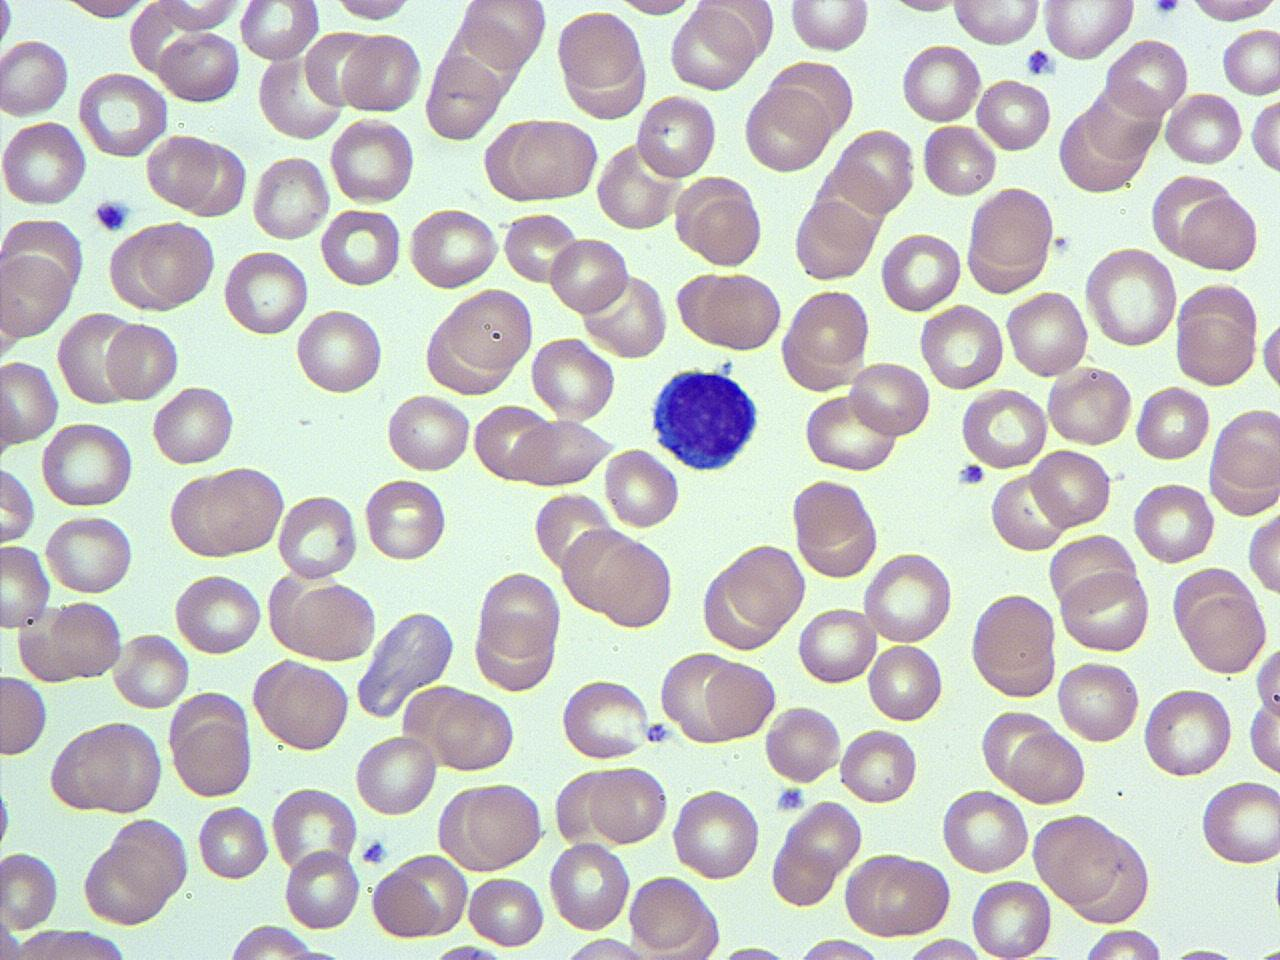Platelets: (92, 196, 134, 234), (359, 834, 389, 868), (1025, 47, 1057, 79), (0, 784, 15, 850), (773, 785, 806, 814), (955, 461, 987, 486), (1269, 863, 1280, 920), (1150, 0, 1184, 18)
RBC: (356, 606, 458, 716), (1082, 245, 1180, 350), (967, 592, 1059, 700), (861, 548, 956, 646), (788, 476, 882, 577), (669, 784, 763, 884), (256, 662, 354, 756), (1141, 683, 1235, 781), (269, 782, 360, 882), (1065, 822, 1153, 926), (967, 184, 1056, 284), (1030, 810, 1122, 908), (38, 419, 137, 510), (326, 112, 417, 208), (221, 245, 312, 339), (558, 675, 656, 762), (292, 307, 384, 399), (528, 332, 618, 426), (76, 70, 170, 158), (255, 51, 346, 143), (917, 298, 1006, 392), (1056, 569, 1152, 655), (546, 838, 633, 934), (580, 268, 669, 360), (407, 204, 501, 291), (81, 719, 165, 816), (742, 85, 830, 176), (0, 116, 88, 209), (80, 841, 173, 928), (476, 569, 564, 659), (1003, 287, 1091, 379), (43, 511, 137, 597), (48, 720, 132, 816), (801, 391, 899, 473), (444, 285, 534, 374), (174, 569, 264, 657), (940, 788, 1032, 874), (55, 309, 136, 406), (1044, 362, 1134, 450), (634, 90, 720, 182), (658, 647, 738, 745), (842, 849, 929, 938), (362, 474, 447, 565), (275, 490, 360, 582), (594, 534, 674, 630), (668, 5, 756, 93), (790, 196, 878, 283), (150, 381, 238, 469), (352, 732, 439, 819), (384, 390, 474, 475), (285, 580, 378, 662), (205, 463, 286, 556), (250, 151, 332, 244), (1198, 776, 1280, 868), (898, 40, 984, 127), (968, 874, 1054, 960), (725, 539, 808, 628), (1056, 657, 1140, 746), (104, 222, 186, 312), (1029, 445, 1113, 532), (694, 270, 784, 352), (838, 125, 918, 216), (846, 357, 932, 441), (959, 386, 1048, 468), (602, 444, 682, 533), (879, 228, 963, 314), (1130, 480, 1215, 564), (1105, 34, 1191, 117), (513, 118, 600, 201), (110, 814, 191, 902), (464, 781, 545, 868), (762, 700, 844, 788), (1150, 173, 1234, 258), (548, 233, 632, 318), (556, 8, 642, 91), (794, 603, 880, 686), (786, 285, 873, 367), (341, 30, 423, 115), (319, 204, 401, 289), (434, 689, 516, 774), (422, 54, 500, 144), (588, 762, 670, 846), (864, 640, 946, 724), (1184, 594, 1270, 675), (139, 217, 217, 306), (156, 27, 242, 107), (1179, 193, 1261, 275), (1162, 88, 1246, 168), (1133, 381, 1213, 465), (282, 846, 361, 932), (1173, 309, 1257, 388), (195, 800, 272, 884), (104, 317, 180, 402), (0, 248, 73, 338), (1008, 726, 1087, 808), (838, 726, 919, 806), (974, 74, 1053, 155), (396, 850, 471, 937), (626, 872, 706, 953), (112, 631, 190, 713), (466, 872, 547, 951), (990, 470, 1066, 554), (703, 657, 778, 742), (166, 472, 238, 560), (51, 597, 124, 683), (501, 208, 580, 286), (920, 120, 998, 200), (172, 722, 252, 800), (460, 1, 549, 70), (879, 854, 951, 938), (785, 800, 864, 876), (1212, 405, 1280, 494), (0, 34, 71, 119), (1041, 0, 1137, 62), (144, 131, 216, 210), (1, 354, 61, 447), (687, 0, 778, 61), (368, 866, 439, 942), (239, 0, 321, 65), (692, 196, 764, 269), (0, 848, 61, 932), (186, 134, 248, 216), (0, 542, 54, 633), (786, 0, 872, 55), (770, 836, 836, 908), (950, 0, 1042, 48), (0, 672, 50, 758), (1220, 26, 1280, 96), (13, 925, 133, 959), (224, 920, 316, 960), (150, 0, 244, 33), (1246, 506, 1280, 597), (1078, 926, 1168, 960), (0, 464, 36, 545), (1248, 689, 1280, 778), (787, 935, 892, 960), (1247, 97, 1279, 177), (1253, 640, 1279, 736), (895, 934, 991, 960), (55, 0, 157, 24), (1183, 0, 1280, 25), (557, 936, 652, 960), (328, 0, 420, 24), (1258, 312, 1280, 397), (882, 0, 964, 20)
WBC: (647, 361, 764, 476)
